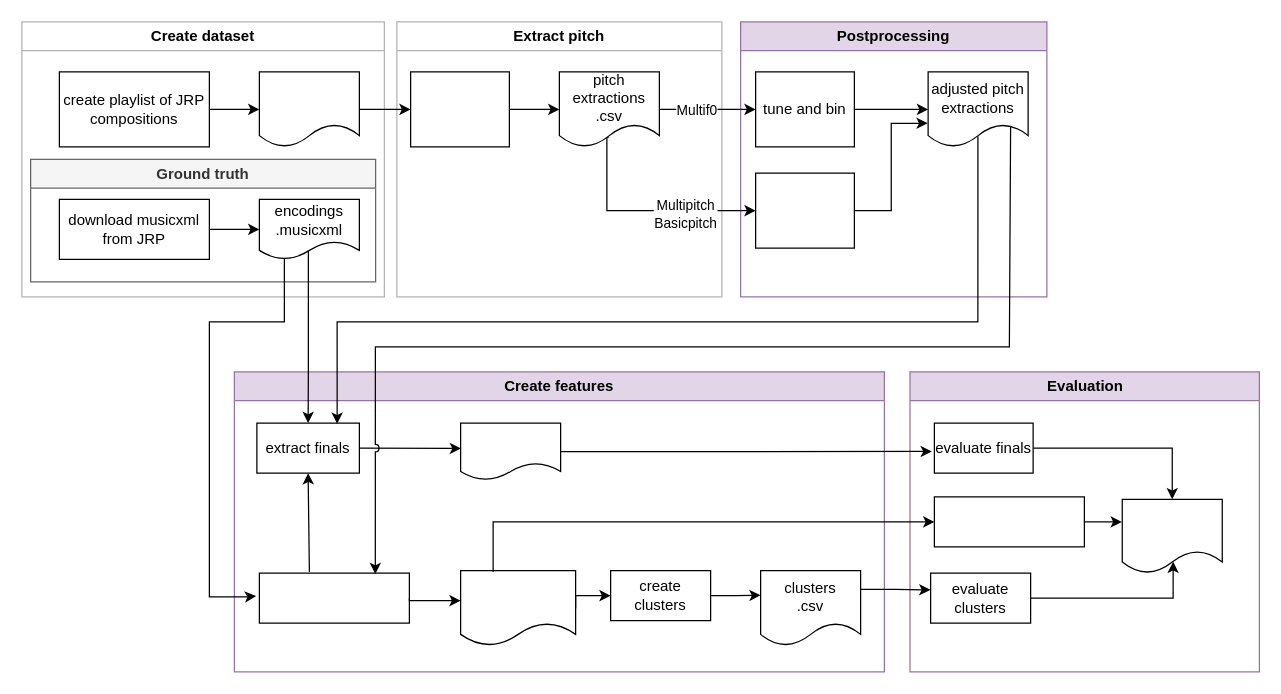
The diagram is 1281 pixels wide and 694 high, and some of its shapes have lost their labels. Here are the shapes that lost their labels. From the top down, the centre of each, then its label:
At point (308, 109): "recordings .wav".
At point (459, 109): "extract pitch content".
At point (804, 210): "apply thresholds".
At point (510, 451): "finals .csv".
At point (1008, 521): "evaluate pitch (class) profiles".
At point (1171, 535): "evaluations .csv".
At point (333, 597): "create normalised pitch (class) profiles".
At point (517, 607): "normalised pitch (class) profiles .csv".
